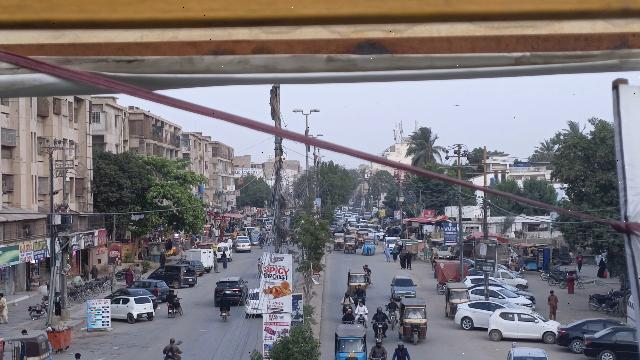Bike: (166, 299, 184, 319), (372, 321, 388, 339), (386, 309, 399, 331), (218, 306, 232, 324), (356, 313, 366, 324), (354, 295, 367, 303)
Car: (486, 305, 561, 345), (554, 315, 614, 355), (581, 324, 638, 359), (453, 299, 510, 330), (147, 264, 198, 289), (111, 295, 155, 323), (212, 276, 248, 305), (133, 278, 170, 299), (390, 275, 418, 298), (243, 285, 261, 320), (504, 346, 549, 360)
Person: (545, 288, 560, 319), (162, 335, 182, 358), (369, 338, 388, 357), (392, 342, 412, 360), (0, 292, 9, 325), (372, 307, 389, 321), (218, 291, 232, 306), (122, 266, 134, 283), (386, 297, 399, 310), (134, 262, 143, 280), (341, 292, 353, 305), (354, 284, 366, 297), (356, 301, 369, 313), (342, 309, 355, 320), (165, 289, 174, 304)
Rickshaw: (397, 297, 429, 345), (332, 322, 368, 360), (441, 283, 468, 320), (345, 269, 369, 296), (361, 235, 377, 256), (344, 235, 357, 256), (332, 233, 347, 251)
Truck: (182, 248, 215, 270)
